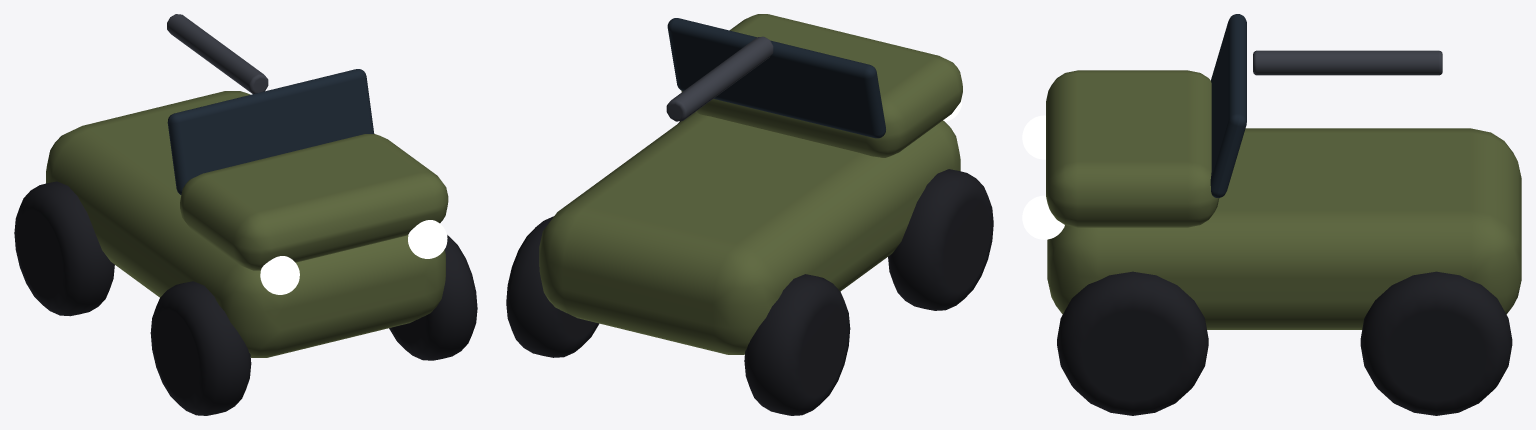
File: jeep.glb
3 views of the same model, side by side, from view 1: azimuth 30°, elevation 25°; view 2: azimuth 150°, elevation 25°; view 3: azimuth 270°, elevation 25° (orthographic). The views are drawn at different scales.
Parts seen in each view (by area): view 1: krop_net; view 2: krop_net; view 3: krop_net.
Part boxes in pixels (x1,y1,x2,y2): krop_net: (14, 14, 477, 415); krop_net: (506, 14, 993, 415); krop_net: (1022, 14, 1521, 415).
Size of the model in its own units: 1.12 by 1.04 by 1.58.
